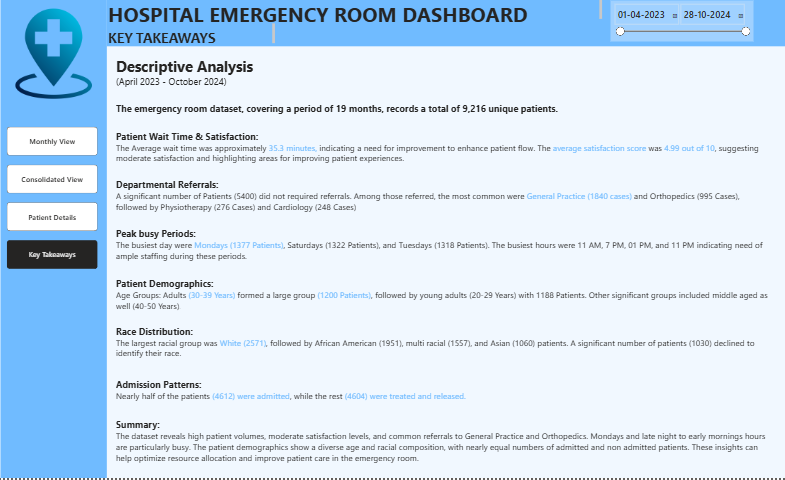

The page's visual inventory and layout, read from the dashboard file:
{"tool":"powerbi","page":{"name":"Key Takeaways","canvas":[2300,1400],"ordinal":3},"visuals":[{"type":"shape","box":[8.6,0,310,1400.4],"z":0},{"type":"shape","box":[317,0,1983,140.9],"z":1000},{"type":"textbox","box":[317,0,1449.3,75.9],"z":2000},{"type":"textbox","box":[317,67.7,495.7,73.1],"z":3000},{"type":"slicer","fields":{"Values":["Date Table.Date"]},"box":[1785.2,8.1,417.2,116.5],"z":4000},{"type":"textbox","box":[363,162.5,284.4,73.1],"z":5000},{"type":"image","box":[27.1,24.4,273.6,273.6],"z":6000},{"type":"textbox","box":[338.6,162.5,544.5,135.4],"z":7000},{"type":"textbox","box":[338.6,298,1655.2,56.9],"z":8000},{"type":"textbox","box":[338.6,379.3,1915.3,113.8],"z":9000},{"type":"textbox","box":[338.6,520.1,1915.3,113.8],"z":10000},{"type":"textbox","box":[338.6,663.7,1915.3,146.3],"z":11000},{"type":"textbox","box":[338.6,810,1915.3,119.2],"z":12000},{"type":"textbox","box":[338.6,948.1,1915.3,135.4],"z":12001},{"type":"textbox","box":[338.6,1105.3,1915.3,89.4],"z":12002},{"type":"textbox","box":[338.6,1219,1915.3,159.8],"z":12004},{"type":"pageNavigator","box":[27.1,376.6,265.5,417.2],"z":12005}]}

Visuals, with their boxes in screenshot pixels (x1, y1, x2, y2), scaled from the page's 2300x1400 canvas onto the 785x480 screenshot:
shape: box=[3, 0, 109, 479]
shape: box=[108, 0, 784, 48]
textbox: box=[108, 0, 603, 26]
textbox: box=[108, 23, 277, 48]
slicer - Date Table.Date: box=[609, 3, 752, 43]
textbox: box=[124, 56, 221, 81]
image: box=[9, 8, 103, 102]
textbox: box=[116, 56, 301, 102]
textbox: box=[116, 102, 680, 122]
textbox: box=[116, 130, 769, 169]
textbox: box=[116, 178, 769, 217]
textbox: box=[116, 228, 769, 278]
textbox: box=[116, 278, 769, 319]
textbox: box=[116, 325, 769, 371]
textbox: box=[116, 379, 769, 410]
textbox: box=[116, 418, 769, 473]
pageNavigator: box=[9, 129, 100, 272]
